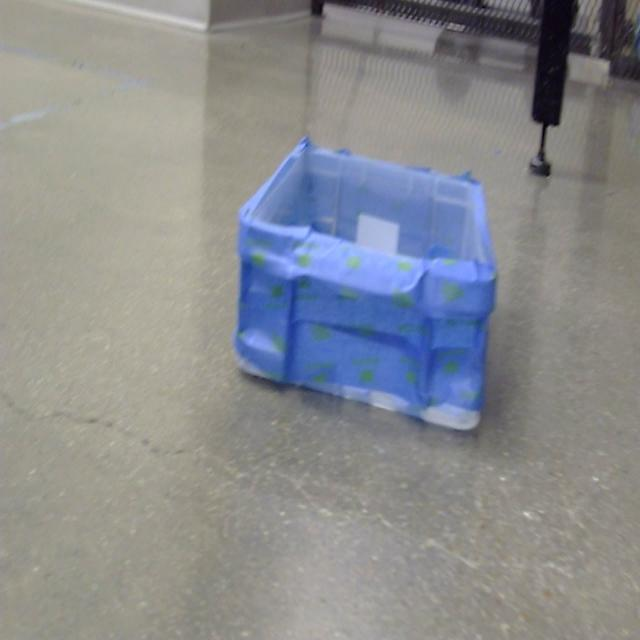bucket: (232, 138, 498, 436)
